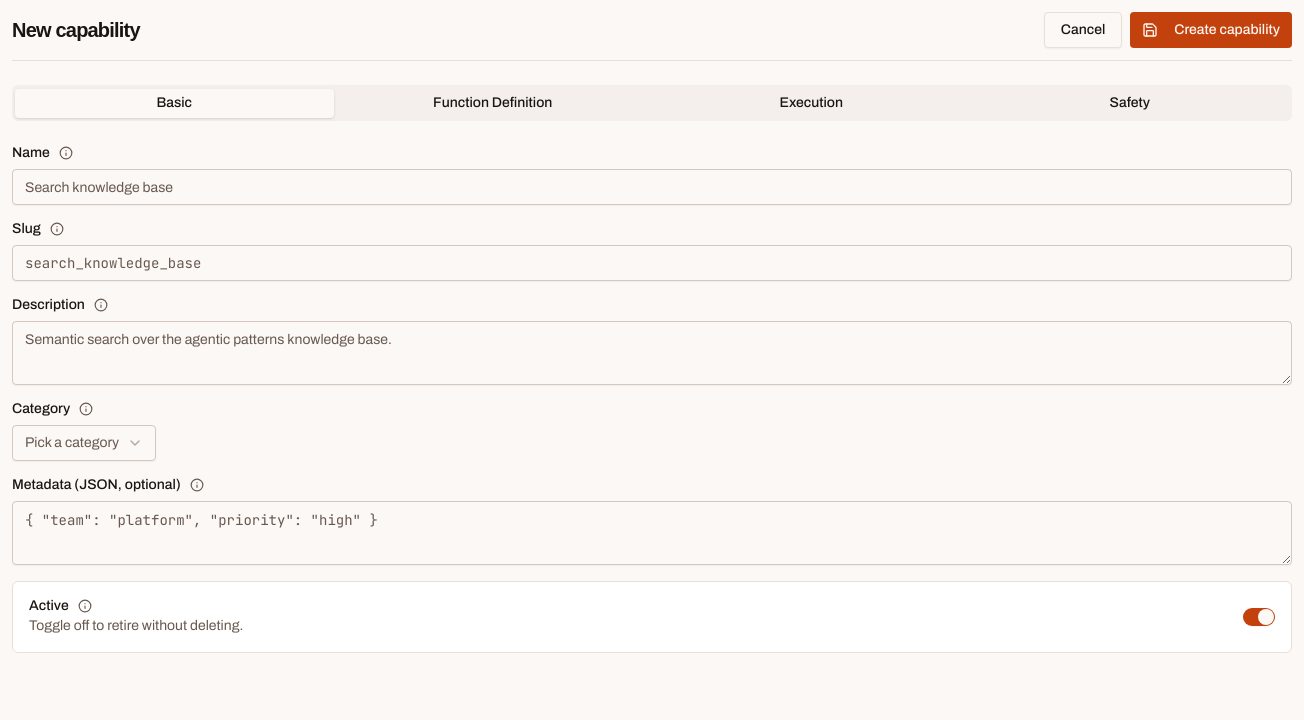
Scenario: CapabilityForm — Function Definition tab › visual builder › starts with no parameters
Click the tab "Function Definition".
click(493, 103)  # box [334,88,652,118]
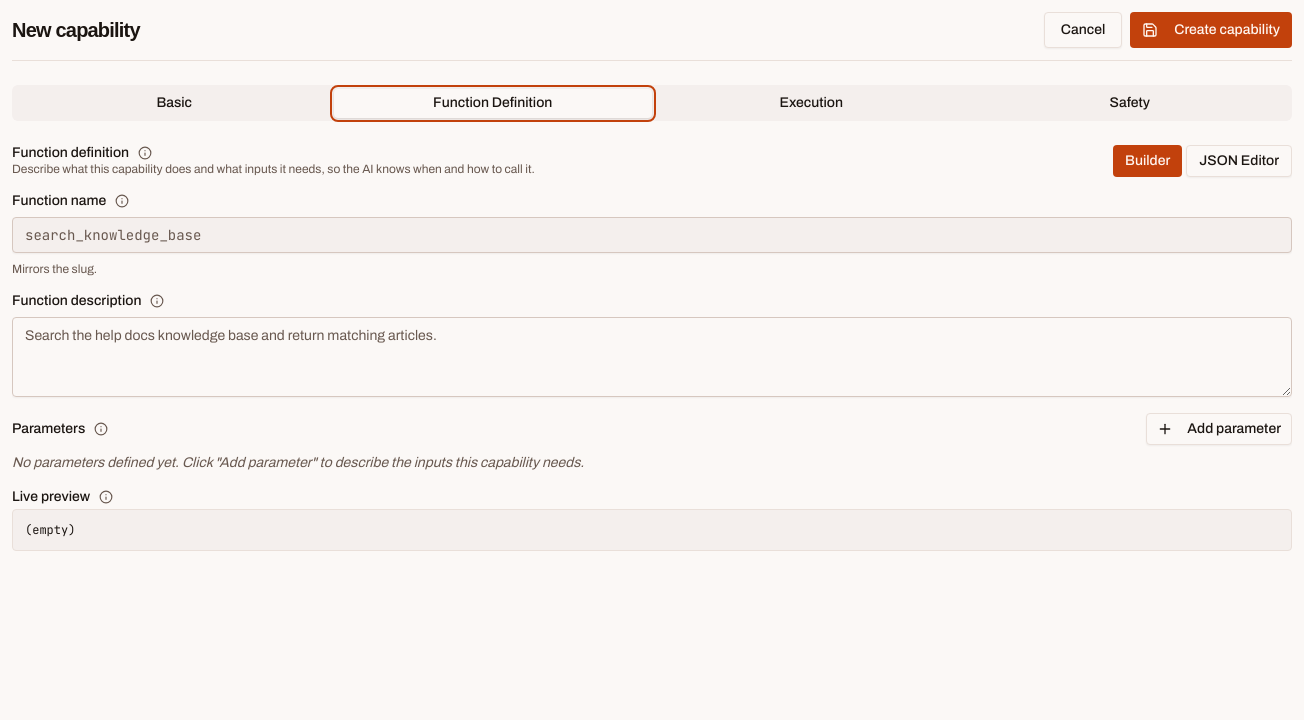
Now the text "No parameters defined yet" is shown, box [12,455,584,470]
